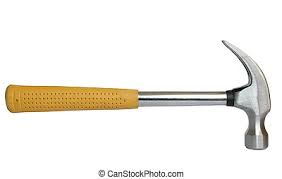hammer: (4, 39, 271, 150)
